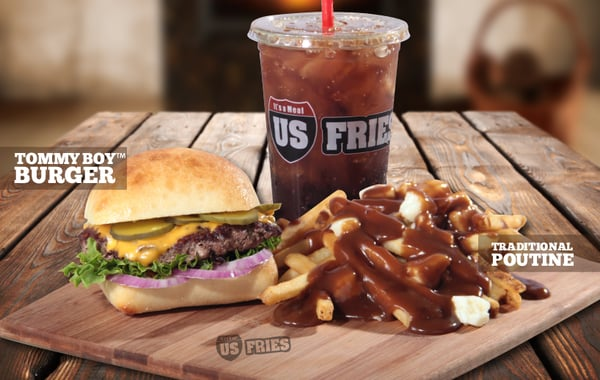pizza: (247, 10, 411, 224)
soup: (63, 147, 283, 316)
